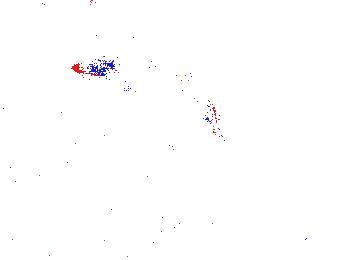glassfish: (176, 68, 229, 147)
redtail glassfish: (71, 57, 117, 75), (129, 43, 157, 67)
siberian prawn: (39, 216, 117, 259)
